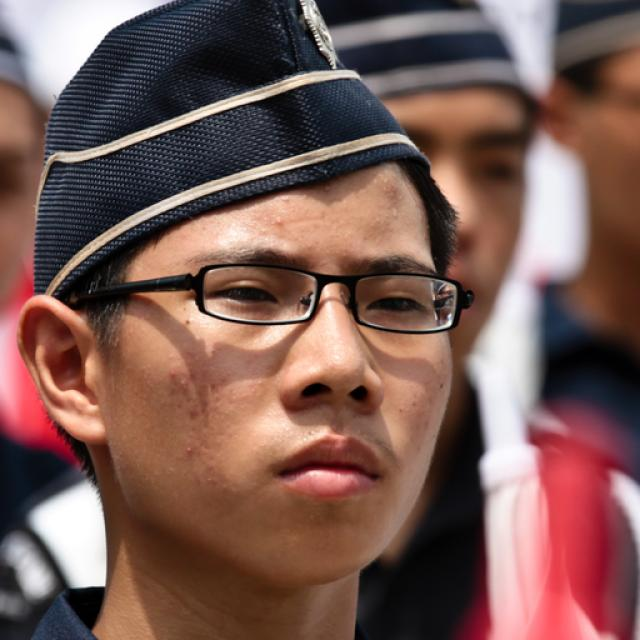Acne: (270, 191, 296, 208), (160, 369, 183, 385), (176, 374, 194, 393), (267, 213, 287, 227), (179, 315, 195, 327), (178, 446, 194, 457)
